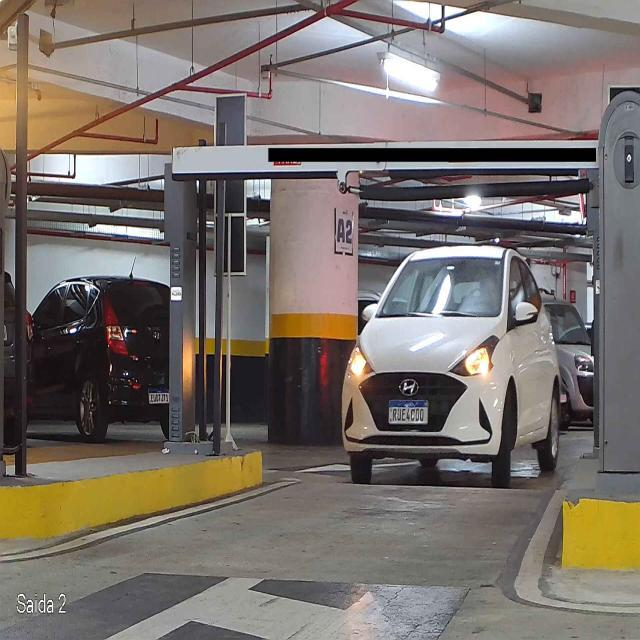mercosul_plate: (386, 398, 431, 426)
